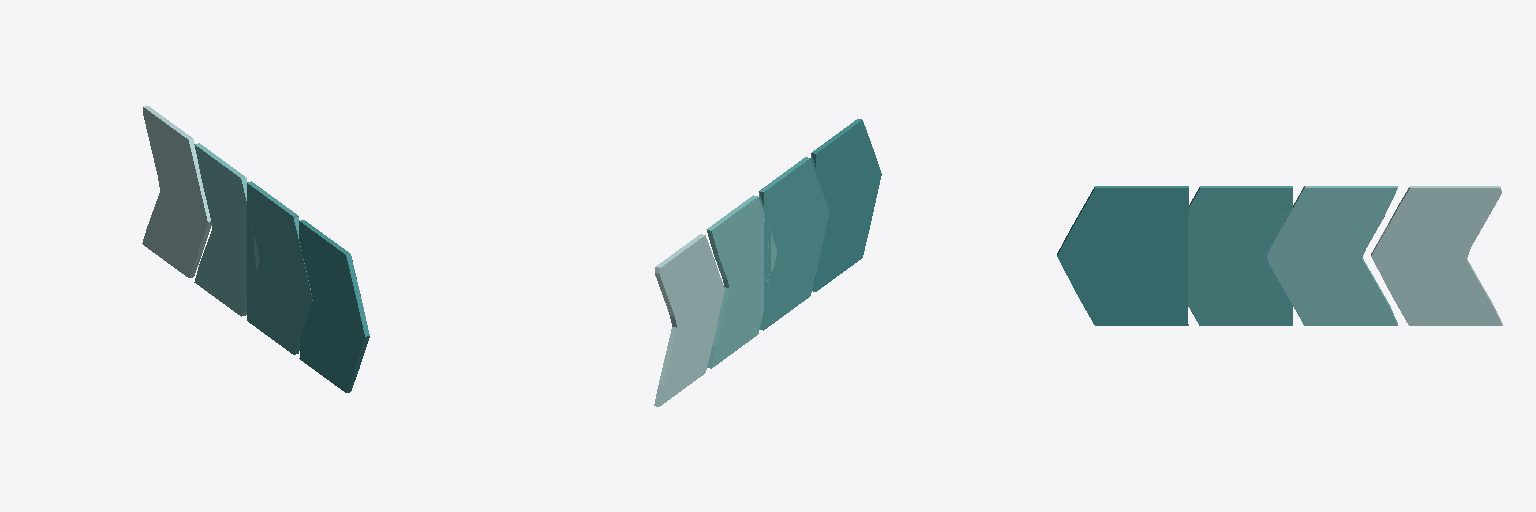
Rendered from ArrowVertical.obj.
The picture shows the model from 3 angles: view 1: azimuth 30°, elevation 25°; view 2: azimuth 150°, elevation 25°; view 3: azimuth 270°, elevation 25°; orthographic projection.
Visible parts, largest first — view 1: Arrow1:Mesh; view 2: Arrow1:Mesh; view 3: Arrow1:Mesh.
Boxes of the visible parts, <box> form: Arrow1:Mesh: <box>142,106,369,392</box>; Arrow1:Mesh: <box>654,119,881,406</box>; Arrow1:Mesh: <box>1057,186,1502,325</box>.
Bounding box in the file's own units: 0.05 × 1.31 × 3.83.